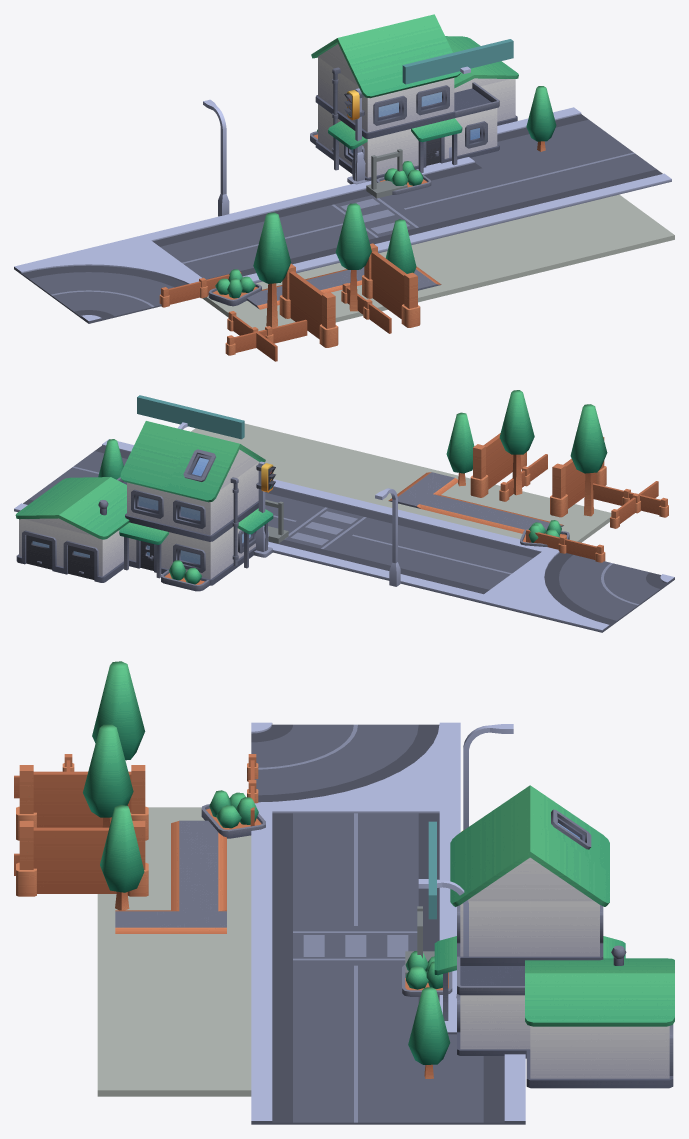
File: neighborhood-rainy-evening-static.glb
3 views of the same model, one above another, from view 1: azimuth 30°, elevation 25°; view 2: azimuth 150°, elevation 25°; view 3: azimuth 270°, elevation 25° (orthographic). The views are drawn at different scales.
Visible parts, largest first — view 1: storefront_base_source, walkable_ground, road_side_east_source, road_bend_west_source, road_straight_west_source, road_crossing_center_source, road_half_east_source, park_fence_north_center_source, park_fence_north_west_source, tree_large_west_source, park_fence_low_west_source, store_sign (+10 smaller); view 2: storefront_base_source, walkable_ground, road_bend_west_source, road_straight_west_source, road_crossing_center_source, park_fence_low_west_source, tree_large_west_source, store_sign, tree_large_north_source, park_fence_north_center_source, park_fence_north_west_source, park_fence_low_north_source (+11 smaller); view 3: storefront_base_source, walkable_ground, road_side_east_source, road_bend_west_source, road_straight_west_source, road_crossing_center_source, road_half_east_source, park_fence_north_center_source, park_fence_north_west_source, tree_large_north_source, tree_small_path_source, tree_large_west_source (+11 smaller).
Boxes of the visible parts, x1=… form: storefront_base_source: x1=310, y1=14, x2=518, y2=180; walkable_ground: x1=202, y1=194, x2=674, y2=331; road_side_east_source: x1=470, y1=107, x2=671, y2=213; road_bend_west_source: x1=14, y1=235, x2=201, y2=323; road_straight_west_source: x1=144, y1=203, x2=339, y2=283; road_crossing_center_source: x1=273, y1=181, x2=477, y2=252; road_half_east_source: x1=416, y1=157, x2=542, y2=228; park_fence_north_center_source: x1=362, y1=243, x2=420, y2=327; park_fence_north_west_source: x1=279, y1=263, x2=338, y2=347; tree_large_west_source: x1=253, y1=212, x2=291, y2=327; park_fence_low_west_source: x1=159, y1=271, x2=307, y2=355; store_sign: x1=402, y1=39, x2=513, y2=84; storefront_base_source: x1=15, y1=421, x2=273, y2=591; walkable_ground: x1=191, y1=423, x2=611, y2=542; road_bend_west_source: x1=476, y1=547, x2=674, y2=632; road_straight_west_source: x1=351, y1=516, x2=547, y2=601; road_crossing_center_source: x1=266, y1=485, x2=422, y2=571; park_fence_low_west_source: x1=526, y1=483, x2=668, y2=562; tree_large_west_source: x1=570, y1=404, x2=607, y2=516; store_sign: x1=137, y1=395, x2=244, y2=439; tree_large_north_source: x1=499, y1=390, x2=534, y2=495; park_fence_north_center_source: x1=470, y1=433, x2=526, y2=497; park_fence_north_west_source: x1=550, y1=437, x2=606, y2=517; park_fence_low_north_source: x1=499, y1=454, x2=658, y2=528; storefront_base_source: x1=434, y1=785, x2=674, y2=1088; walkable_ground: x1=97, y1=807, x2=251, y2=1096; road_side_east_source: x1=251, y1=1032, x2=525, y2=1124; road_bend_west_source: x1=251, y1=722, x2=460, y2=813; road_straight_west_source: x1=251, y1=811, x2=460, y2=901; road_crossing_center_source: x1=251, y1=899, x2=456, y2=989; road_half_east_source: x1=251, y1=988, x2=456, y2=1034; park_fence_north_center_source: x1=16, y1=821, x2=148, y2=896; park_fence_north_west_source: x1=16, y1=765, x2=148, y2=840; tree_large_north_source: x1=83, y1=724, x2=133, y2=827; tree_small_path_source: x1=100, y1=805, x2=144, y2=910; tree_large_west_source: x1=92, y1=661, x2=145, y2=760.
Size of the model in its own units: 13.5 by 2.95 by 9.47.
18 materials, 15 textured.
